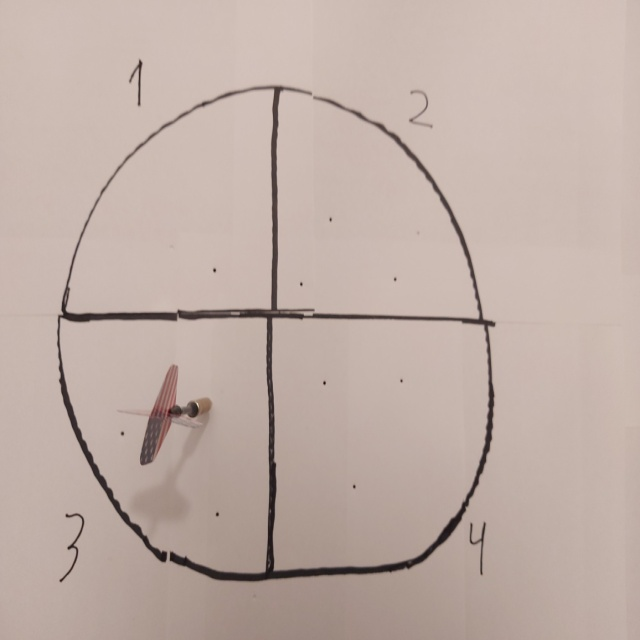Dart: (112, 360, 219, 469)
